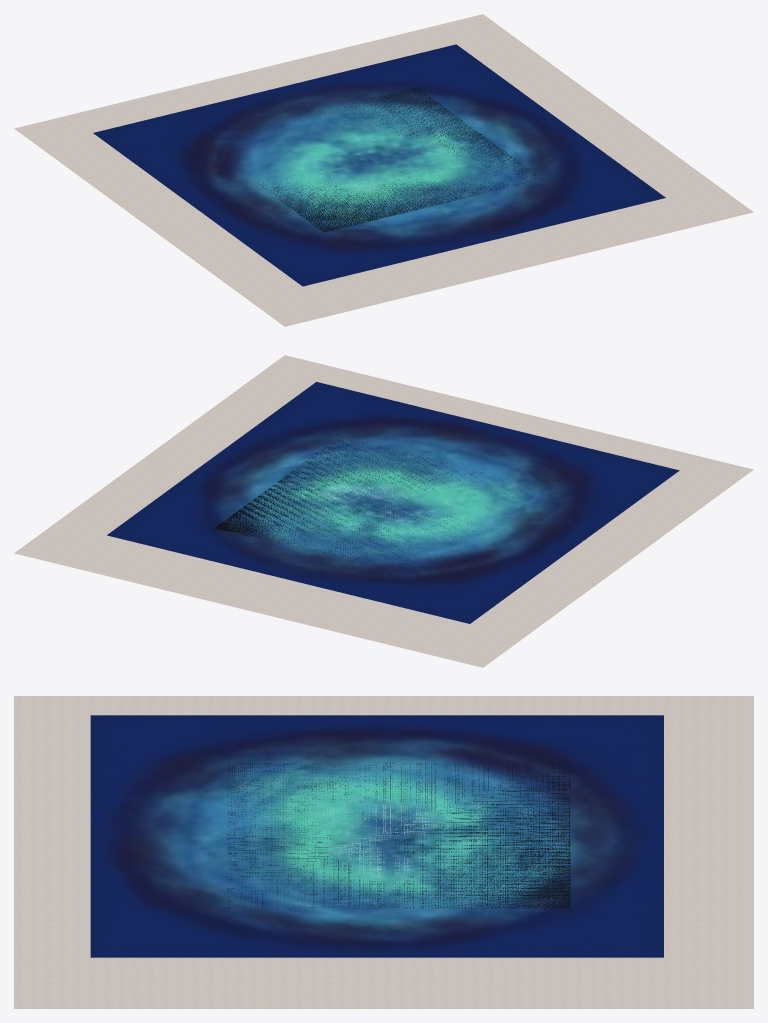
The model's file is pir_m_are_isl_pvpSpanish_ocean.fbx.
3 renders of one model, top to bottom at view 1: azimuth 30°, elevation 25°; view 2: azimuth 150°, elevation 25°; view 3: azimuth 270°, elevation 25°, orthographic. The views are drawn at different scales.
Visible parts, largest first — view 1: water_color, sandfloor, water_alpha; view 2: water_color, sandfloor, water_alpha; view 3: water_color, sandfloor, water_alpha.
Boxes of the visible parts, x1,y1,x2,y2 form: water_color: (93, 44, 665, 286); sandfloor: (14, 14, 753, 326); water_alpha: (252, 87, 541, 232); water_color: (107, 382, 679, 623); sandfloor: (14, 355, 753, 667); water_alpha: (214, 437, 528, 578); water_color: (90, 715, 663, 957); sandfloor: (14, 696, 753, 1008); water_alpha: (227, 762, 570, 908).
Size of the model in its own units: 400000 by 6894 by 400000.
Materials: 3 (3 with a texture image).
